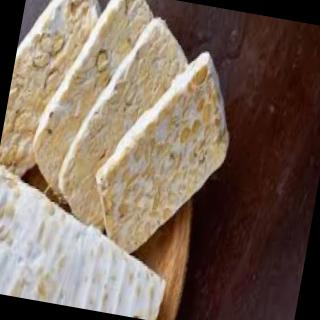Tempe: (1, 1, 255, 271)
